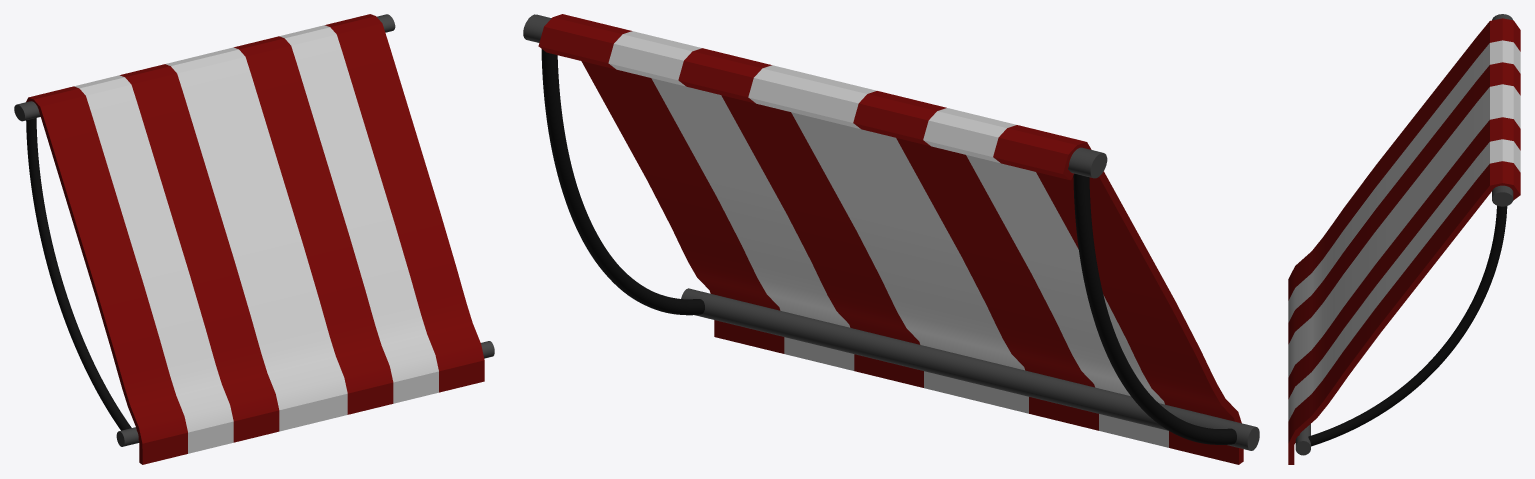
Rendered from Prop_Awning.FBX.
3 views of the same model, side by side, from view 1: azimuth 30°, elevation 25°; view 2: azimuth 150°, elevation 25°; view 3: azimuth 270°, elevation 25° (orthographic). The views are drawn at different scales.
Parts seen in each view (by area): view 1: aaa003; view 2: aaa003; view 3: aaa003.
Part boxes in pixels (x1,y1,x2,y2): aaa003: (14, 14, 494, 464); aaa003: (523, 14, 1259, 464); aaa003: (1288, 14, 1520, 464).
Bounding box in the file's own units: 293 × 216 × 161.
